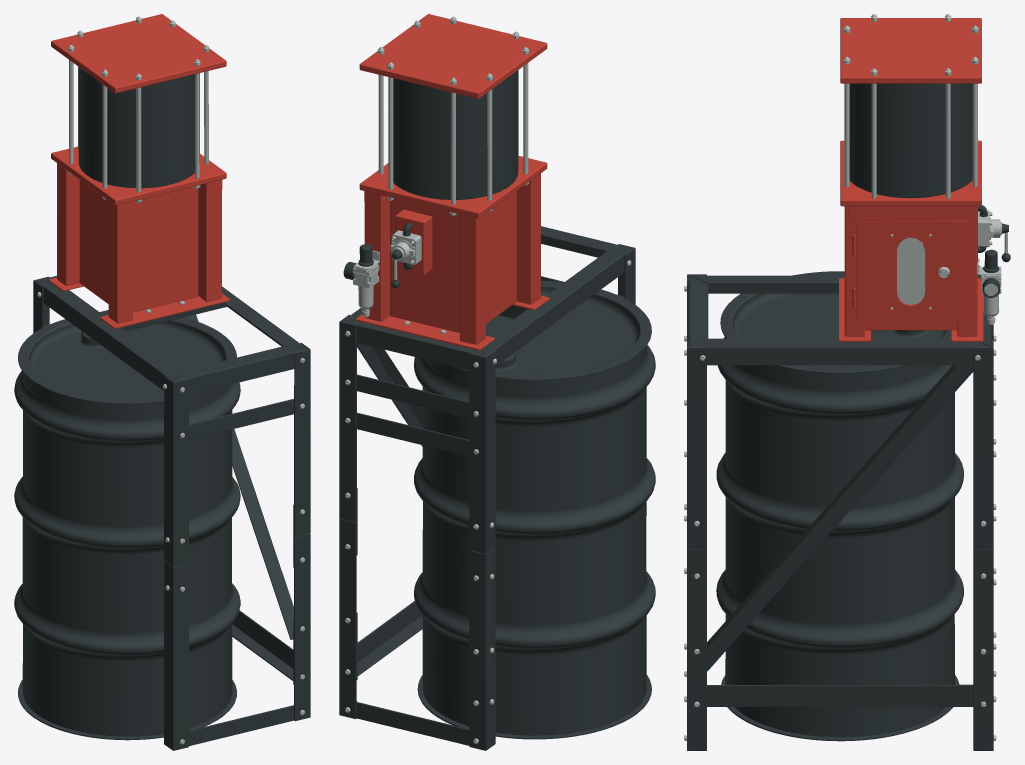
The model's file is serviceTool_used_filter_crusher_a01.glb.
3 renders of one model, left to right at view 1: azimuth 30°, elevation 25°; view 2: azimuth 150°, elevation 25°; view 3: azimuth 270°, elevation 25°, orthographic. The views are drawn at different scales.
Size of the model in its own units: 0.6663 by 1.83 by 0.8071.
